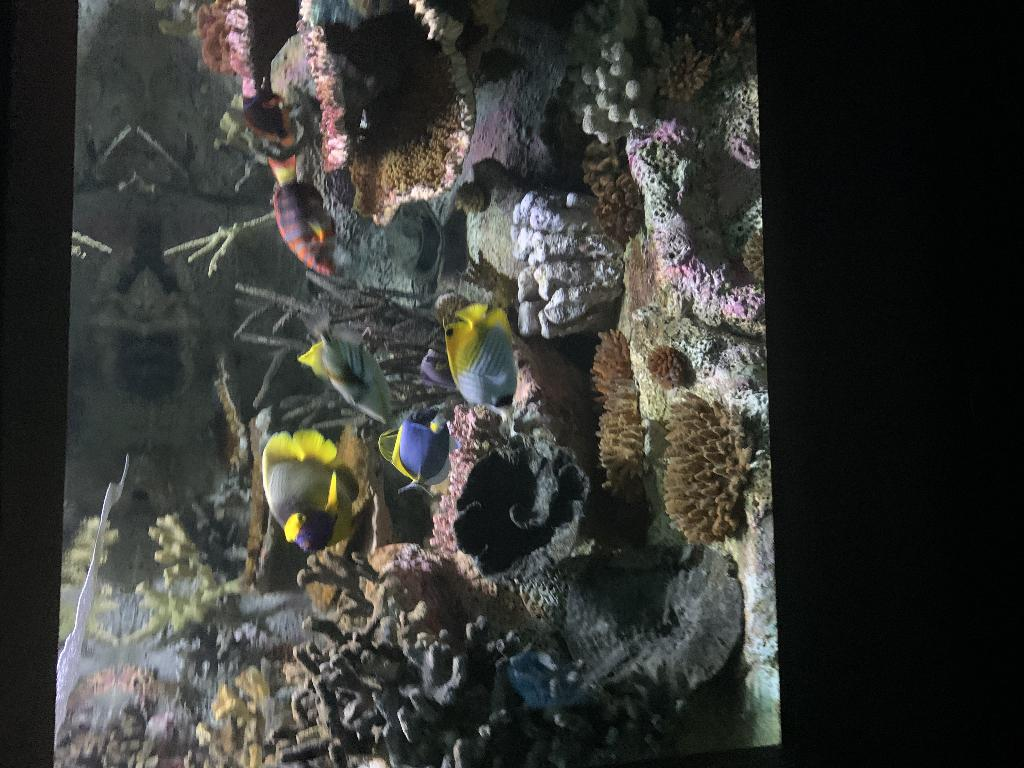fish: (262, 428, 358, 554), (297, 310, 397, 428), (266, 152, 338, 280), (440, 301, 516, 415), (377, 403, 451, 495)
